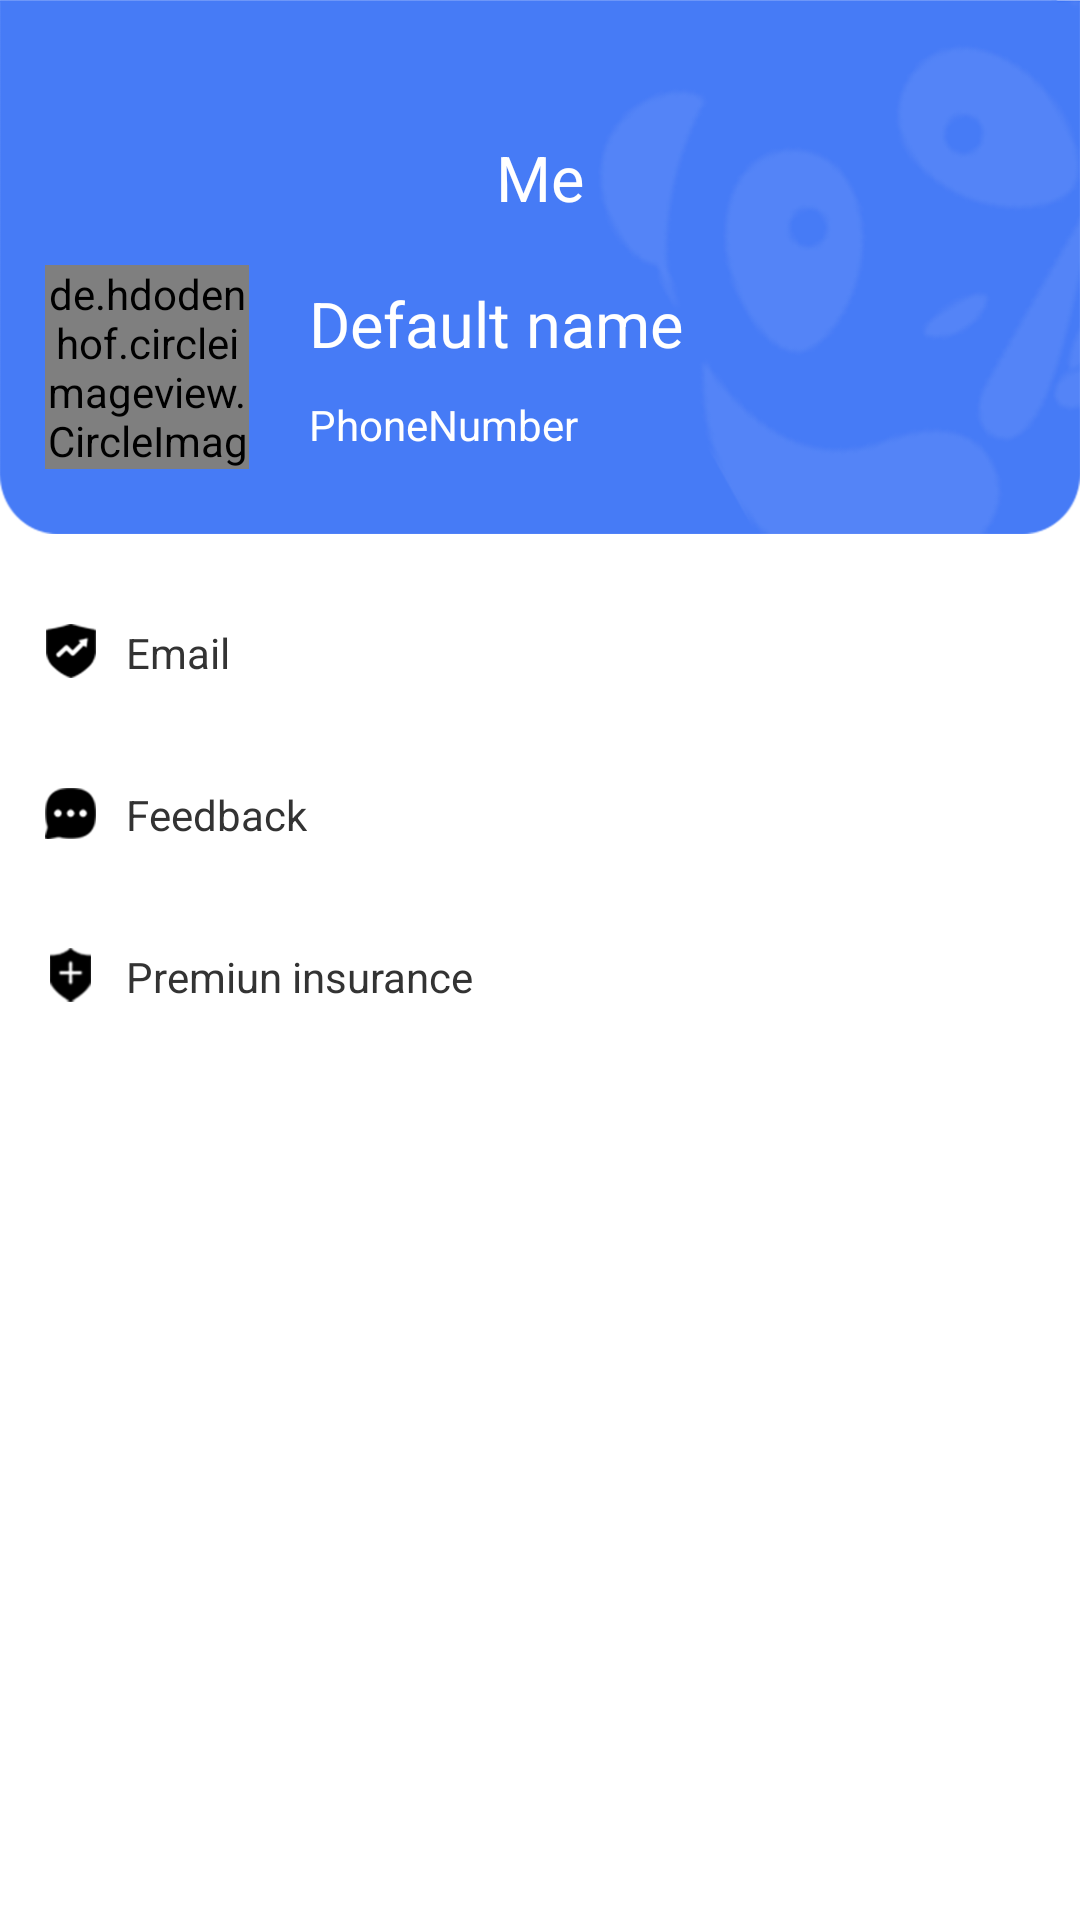

Where icons sit on this 1080 x 1920 app screen, as (x1, y1, x2, y2):
me credit: (46, 624, 96, 678)
